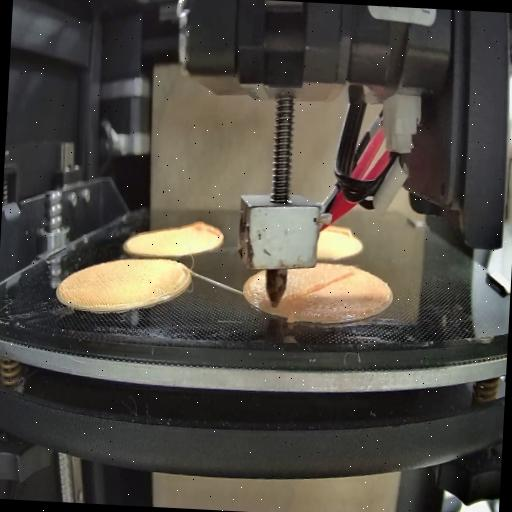over_extrusion: (283, 262, 360, 310), (188, 206, 228, 256), (322, 224, 356, 238)
